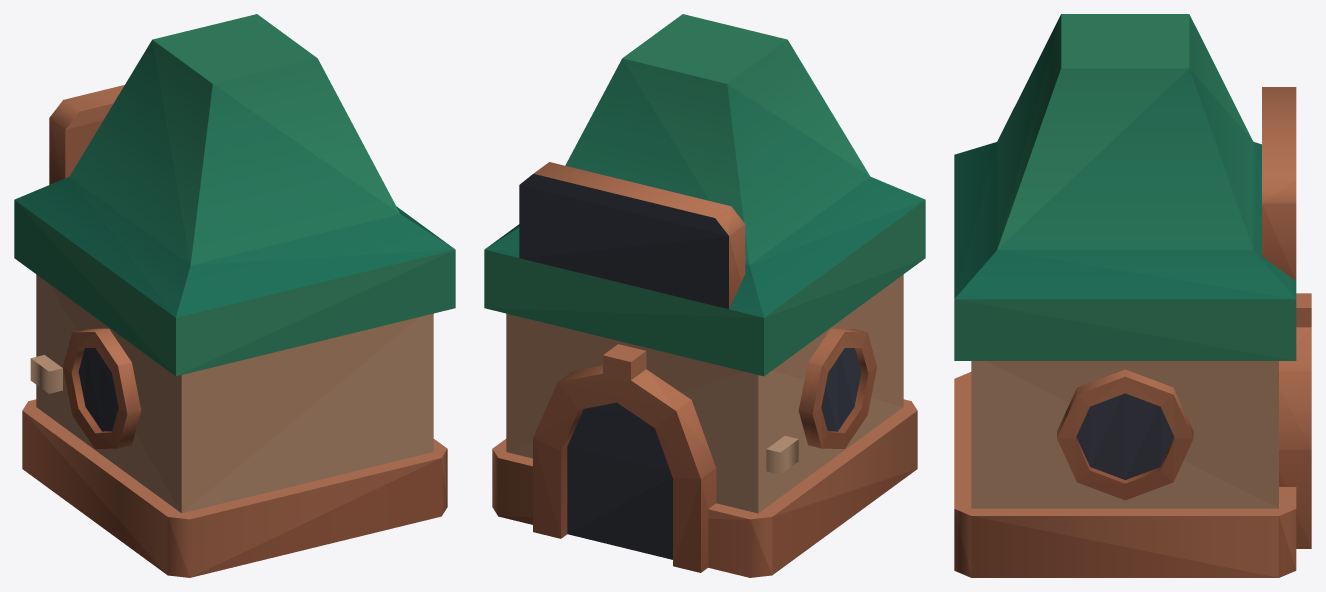
Rendered from coaster_ride_entrance.glb.
3 views of the same model, side by side, from view 1: azimuth 30°, elevation 25°; view 2: azimuth 150°, elevation 25°; view 3: azimuth 270°, elevation 25° (orthographic). The views are drawn at different scales.
Visible parts, largest first — view 1: coaster_ride_entrance; view 2: coaster_ride_entrance; view 3: coaster_ride_entrance.
Part boxes in pixels (<box>): coaster_ride_entrance: <box>14,14,455,577</box>; coaster_ride_entrance: <box>484,14,925,577</box>; coaster_ride_entrance: <box>954,14,1311,577</box>.
Bounding box in the file's own units: 1 × 1.5 × 1.04.
